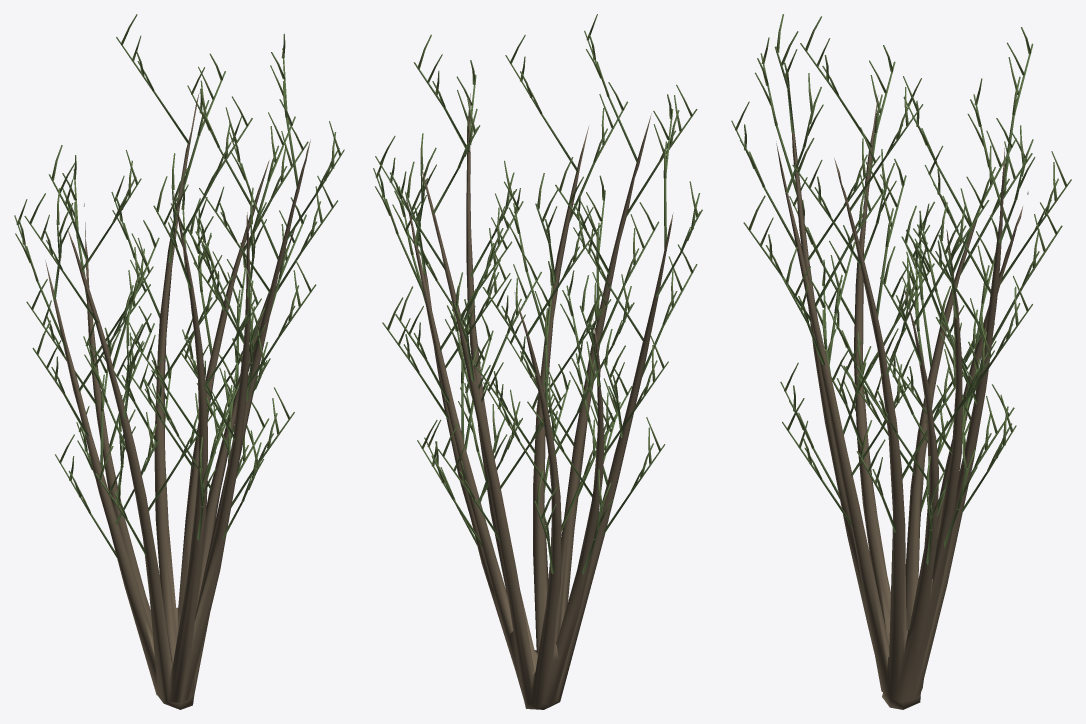
Rendered from Bruyere_1_Niveau0.fbx.
3 views of the same model, side by side, from view 1: azimuth 30°, elevation 25°; view 2: azimuth 150°, elevation 25°; view 3: azimuth 270°, elevation 25° (orthographic). The views are drawn at different scales.
Visible parts, largest first — view 1: Bruyere_1_Niveau0_Jeu; view 2: Bruyere_1_Niveau0_Jeu; view 3: Bruyere_1_Niveau0_Jeu.
Part boxes in pixels (x1,y1,x2,y2): Bruyere_1_Niveau0_Jeu: [14, 14, 344, 709]; Bruyere_1_Niveau0_Jeu: [373, 14, 702, 709]; Bruyere_1_Niveau0_Jeu: [731, 14, 1071, 709].
Size of the model in its own units: 138 by 279 by 125.
